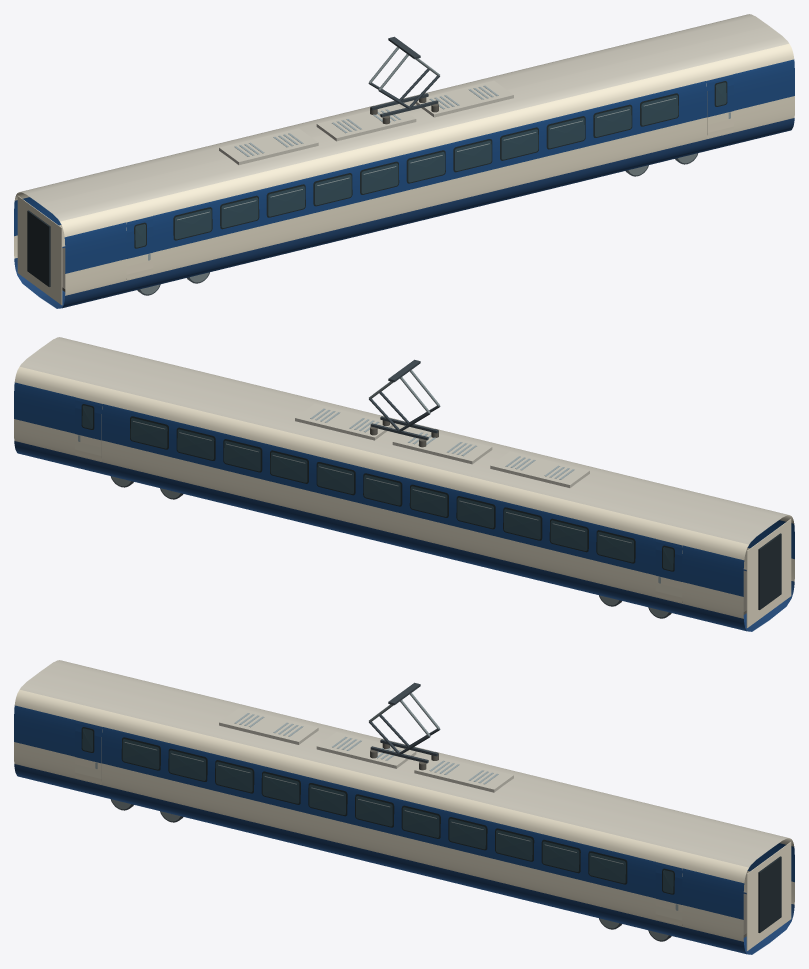
Rendered from express-retro-middlePantograph.glb.
3 views of the same model, one above another, from view 1: azimuth 30°, elevation 25°; view 2: azimuth 150°, elevation 25°; view 3: azimuth 330°, elevation 25° (orthographic).
Visible parts, largest first — view 1: body, door_right_rear, door_right_front; view 2: body, door_left_rear, door_left_front; view 3: body, door_right_front, door_right_rear.
Boxes of the visible parts, x1,y1,x2,y2 form: body: (14,14,794,308); door_right_rear: (126,216,153,279); door_right_front: (706,74,733,137); body: (14,337,794,631); door_left_rear: (655,539,682,602); door_left_front: (75,397,102,460); body: (14,660,794,954); door_right_front: (655,862,682,925); door_right_rear: (75,720,102,783).
Size of the model in its own units: 27.01 by 6.07 by 3.39.
